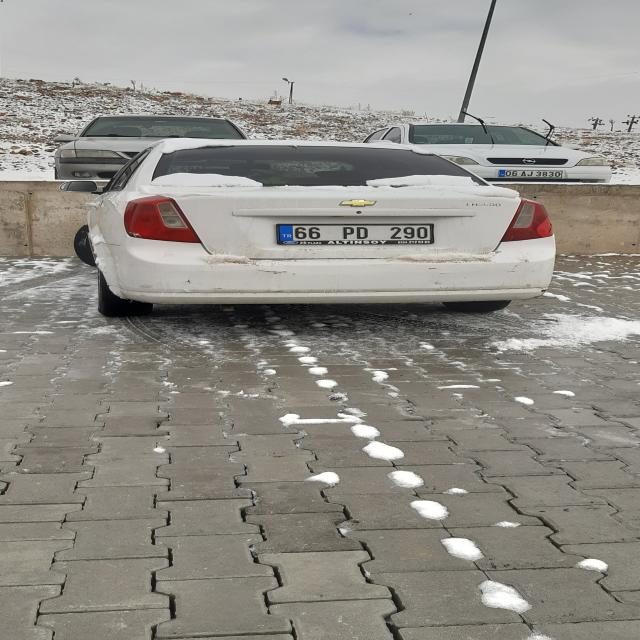plate: (276, 224, 433, 241)
